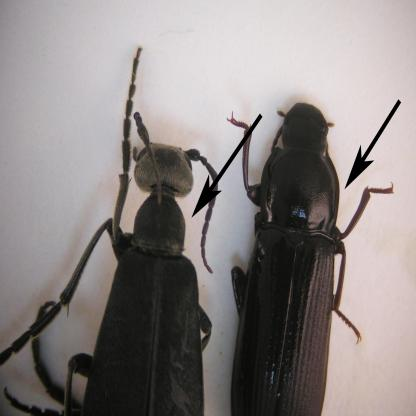beetle: (2, 38, 227, 416), (220, 67, 400, 416)
